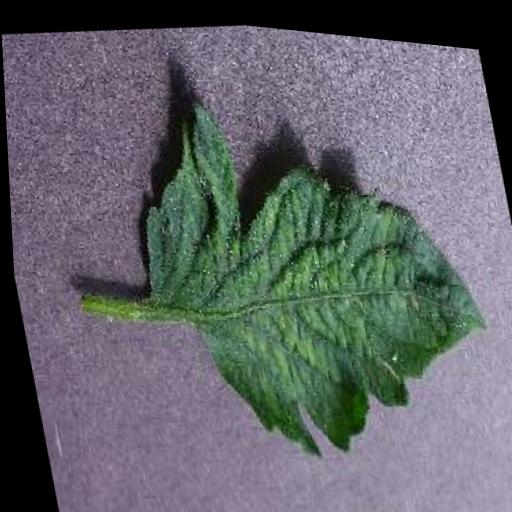Mosaic Virus: (107, 52, 508, 485)
